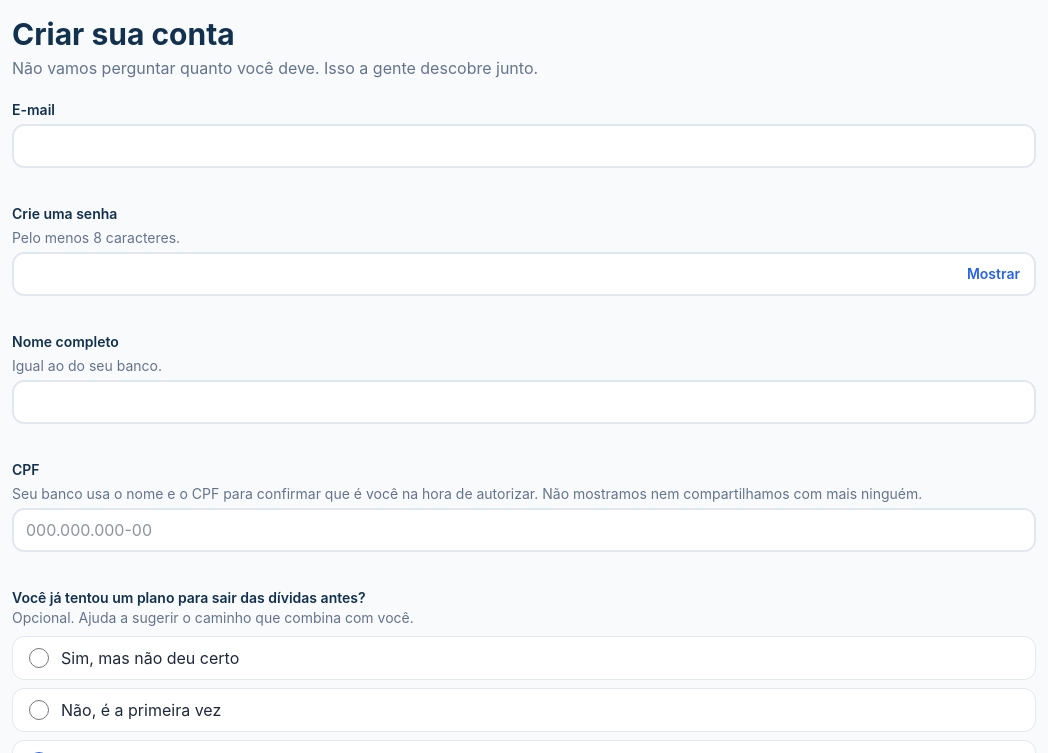
Test case: cadastro — validação inline › letra no meio do CPF não come o dígito seguinte
Type "abc5299822472x5" into the field labelled "CPF" at (524, 530), box x1=12 y1=508 x2=1036 y2=552
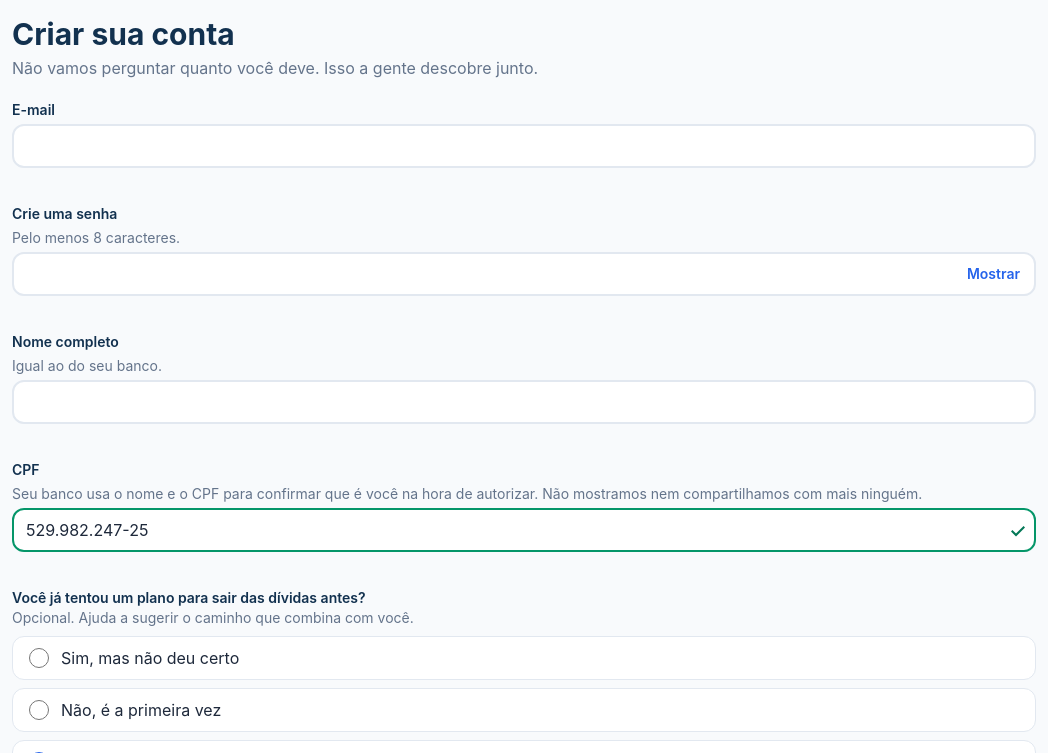
Check: the field labelled "CPF" holds "529.982.247-25", box x1=12 y1=508 x2=1036 y2=552
